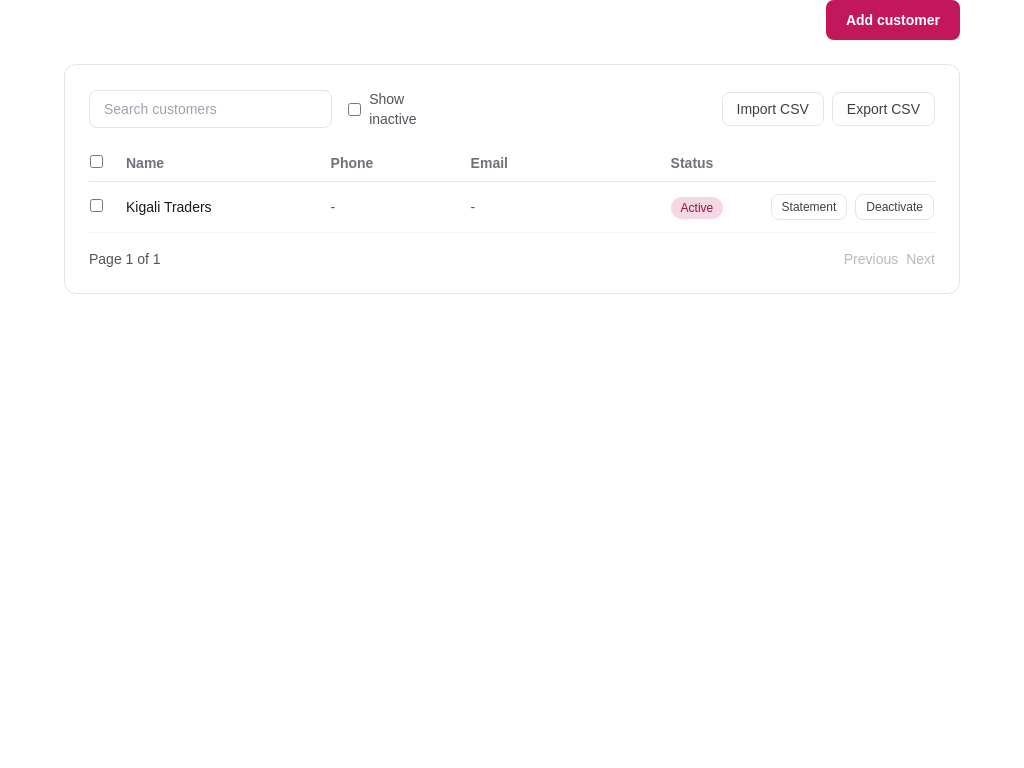
Scenario: Customers › opens the edit modal when a customer's name button is clicked
The width and height of the screenshot is (1024, 768).
Click the button "Kigali Traders".
click(169, 207)  # box [126,197,212,217]
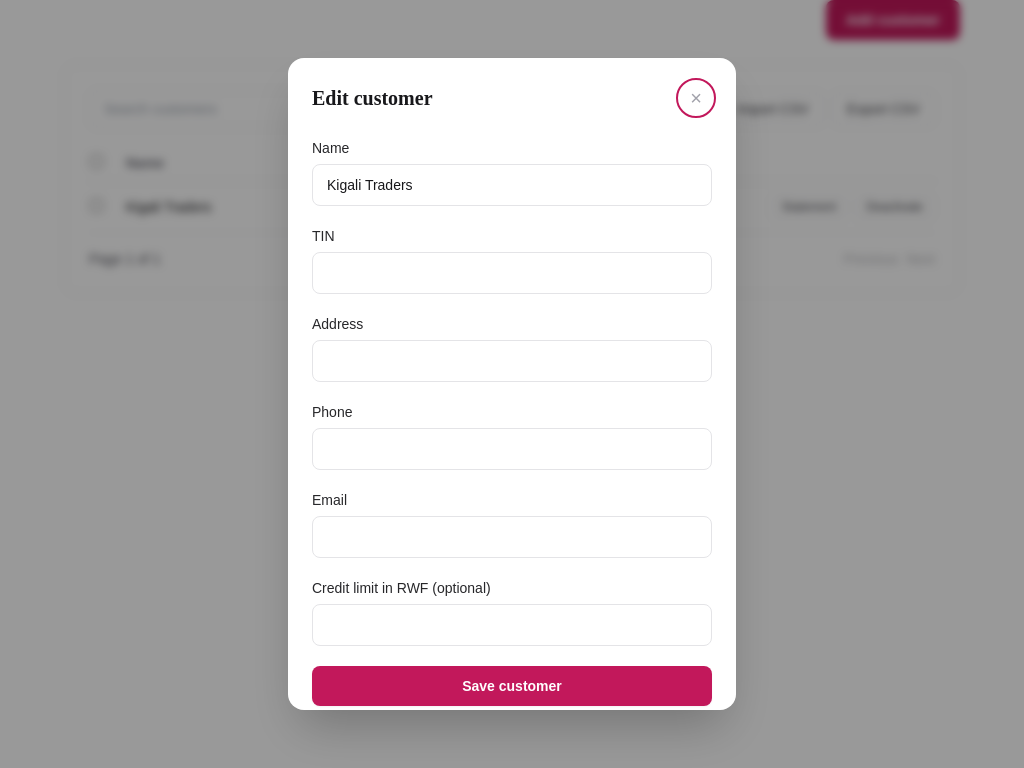
Check: the heading "Edit customer" is shown, box [312,84,432,112]
